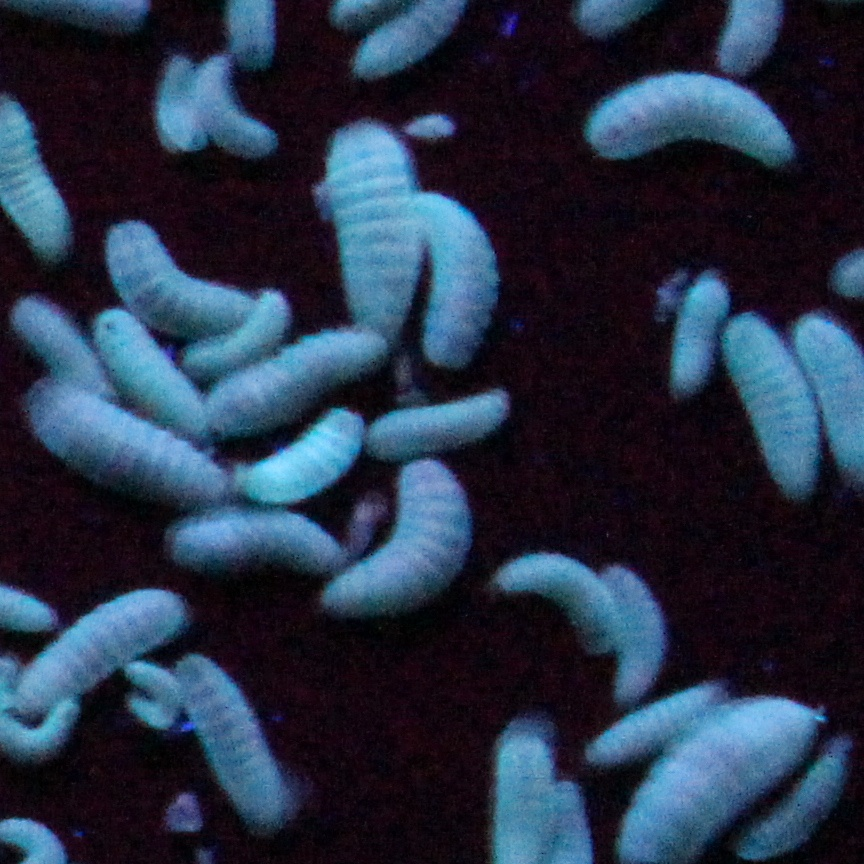larve: (41, 390, 207, 485), (192, 657, 294, 809), (334, 481, 453, 609), (28, 599, 177, 701), (232, 327, 378, 425), (736, 323, 813, 492), (336, 135, 400, 327), (585, 81, 781, 142), (495, 551, 611, 649), (104, 309, 197, 427), (106, 237, 236, 320), (427, 200, 488, 367), (751, 751, 848, 855), (392, 381, 507, 444), (592, 690, 697, 758), (258, 416, 346, 497), (199, 292, 285, 372), (614, 565, 664, 700), (188, 511, 327, 558), (21, 300, 95, 378), (150, 67, 202, 151), (209, 69, 265, 146), (683, 274, 721, 372), (143, 667, 175, 733)
